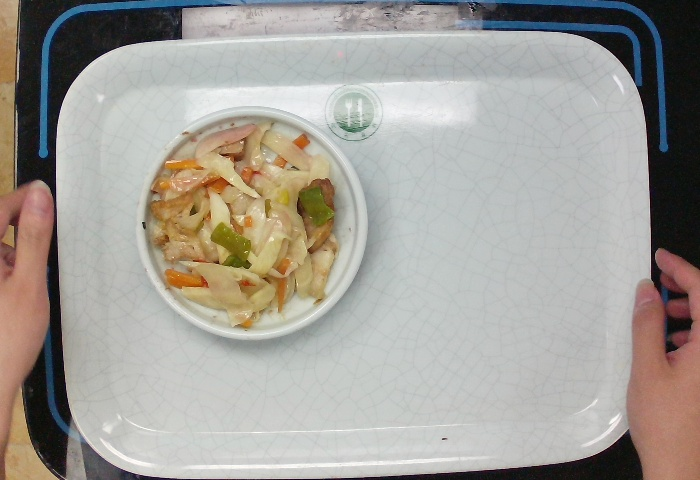JYsf-Xiao_Yuan_Pan: (133, 99, 377, 343)
